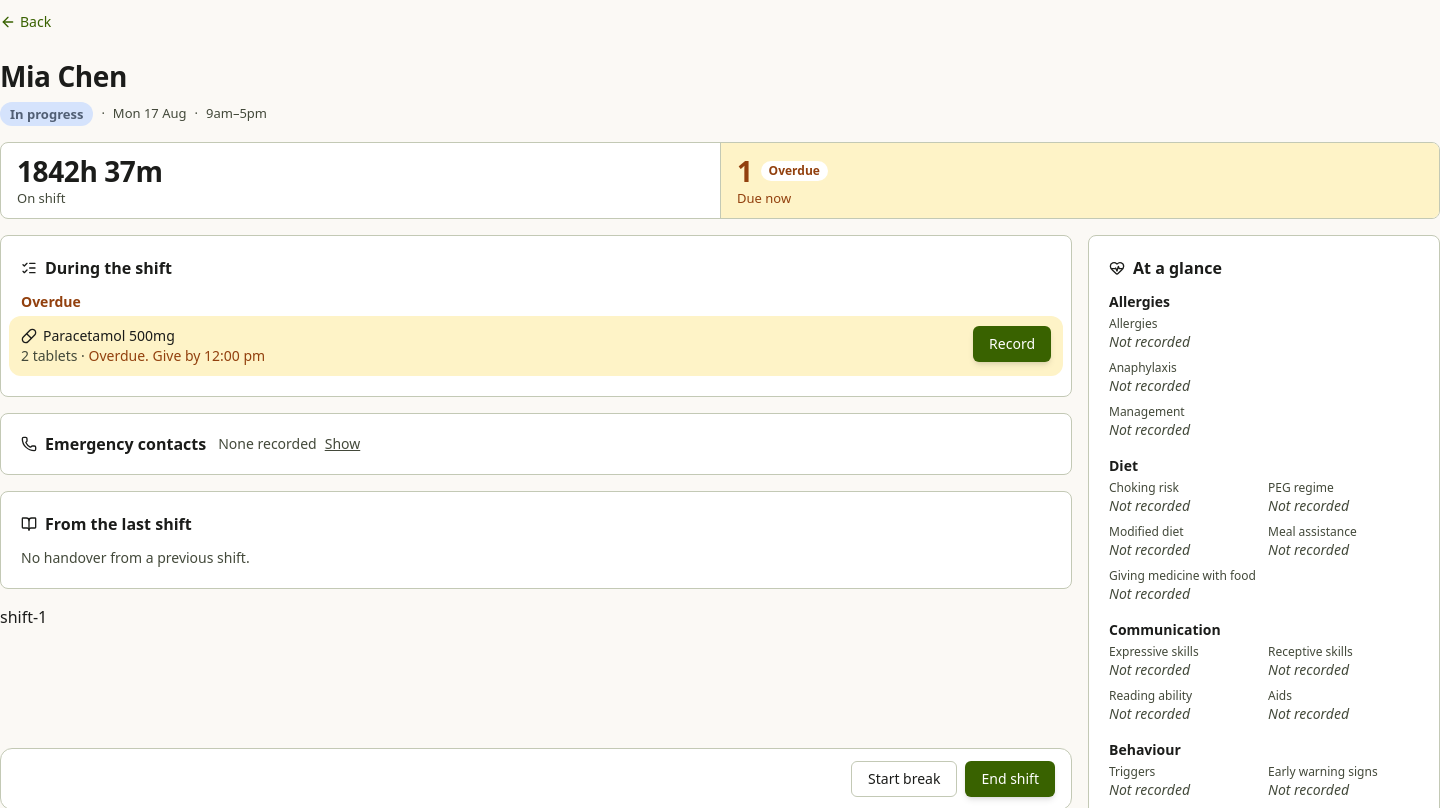
Test: PortalShiftDetailPage: the five-step finish (SHAPE §4) › step 2 lists doses that need an outcome; Next names the count and focuses the first Record it; Not given opens the dose sheet
Click the button "End shift" at (1010, 779), box [966,761,1055,797]
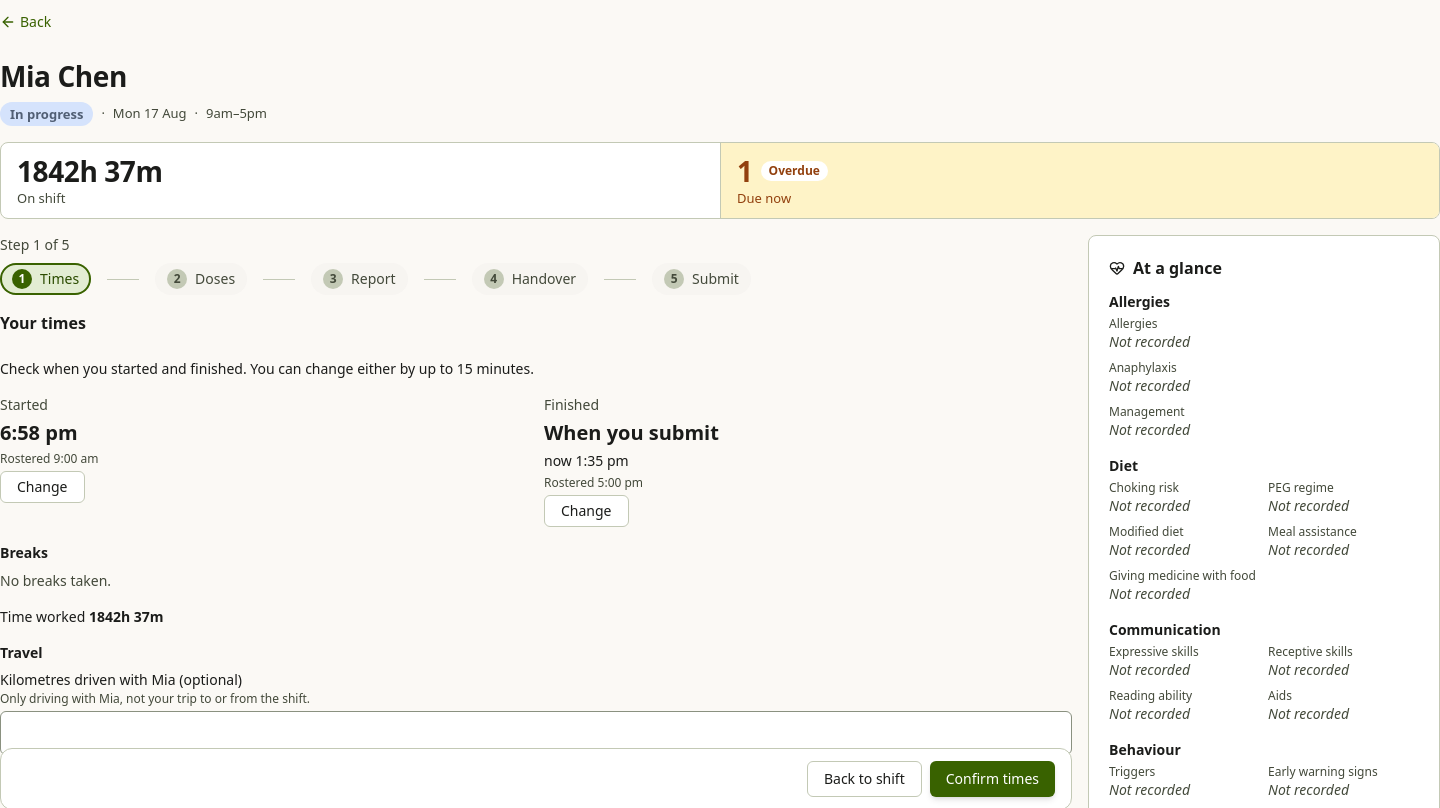
Click the button "Confirm times" at (992, 779), box [930,761,1055,797]
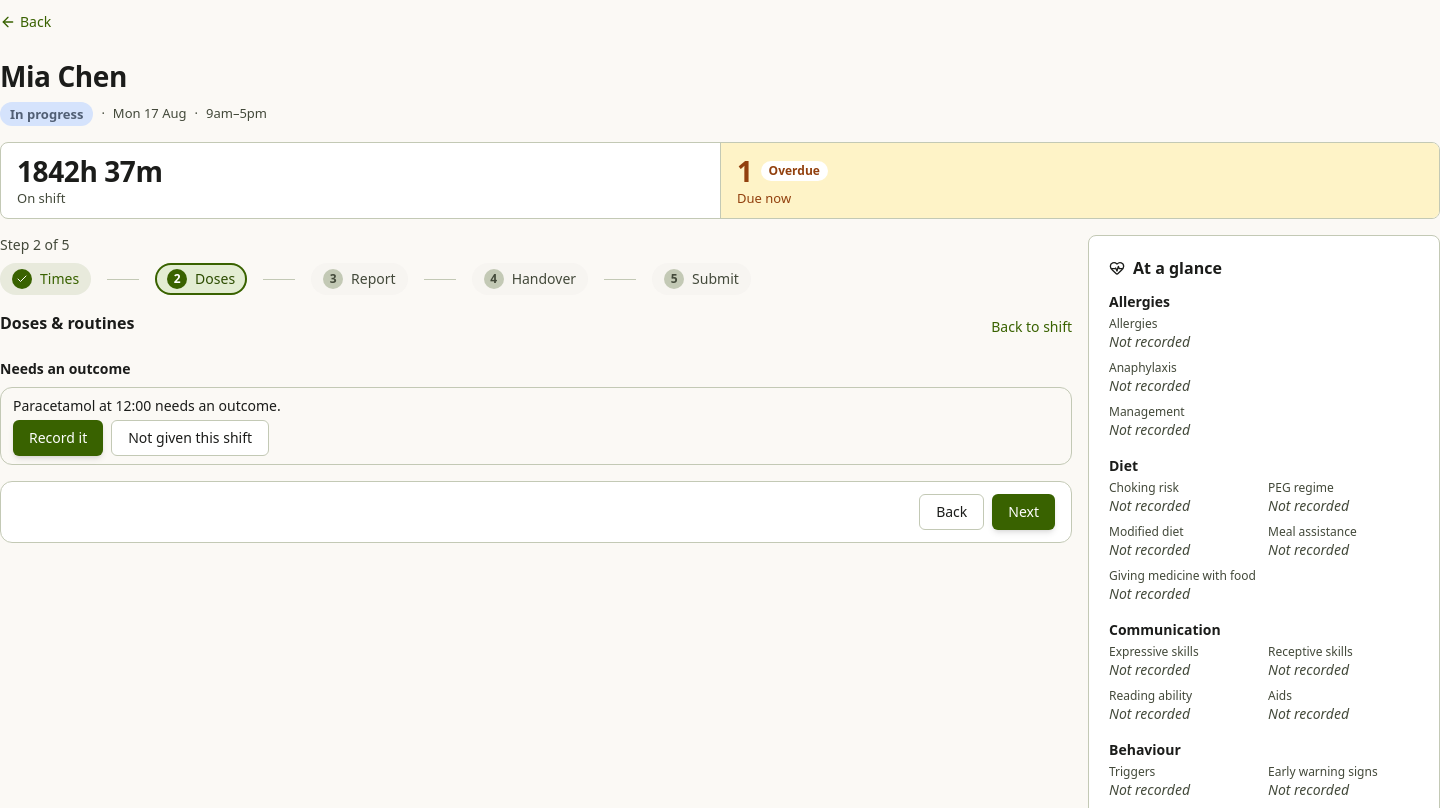
Expected: the heading "Needs an outcome" is shown, [0,359,130,378]
Expected: the text "Paracetamol at 12:00 needs an outcome." is shown, [13,396,281,415]
Click the button "Next" at (1024, 512), box [992,494,1055,530]
(page scrolled)
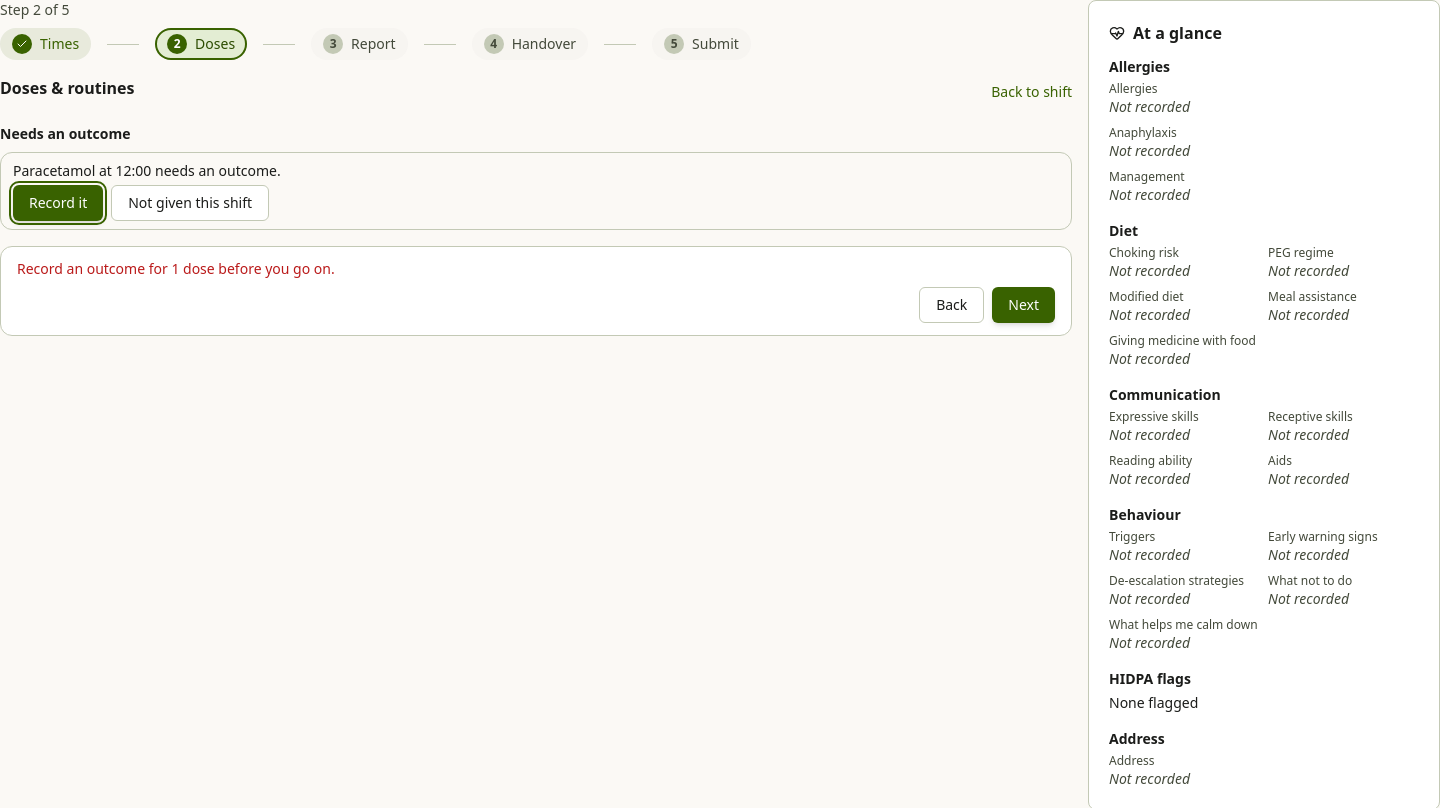
Expected: the message reads "Record an outcome for 1 dose before you go on.", [17,259,335,278]
Click the button "Not given this shift" at (190, 203), box [111,185,269,221]
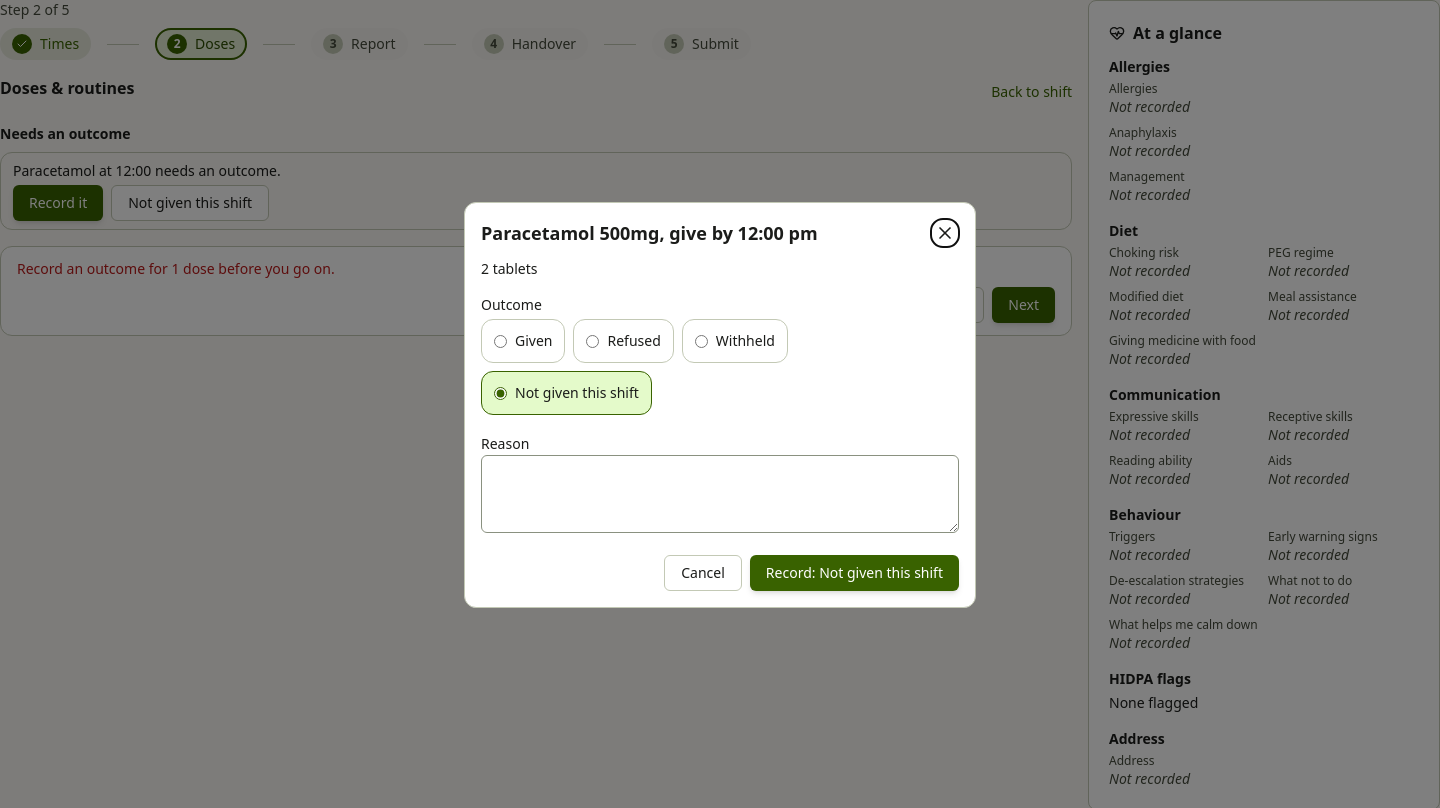
Expected: the dialog is shown, [464,202,976,608]
Expected: the text box labelled "Reason" is shown, [481,455,959,533]
